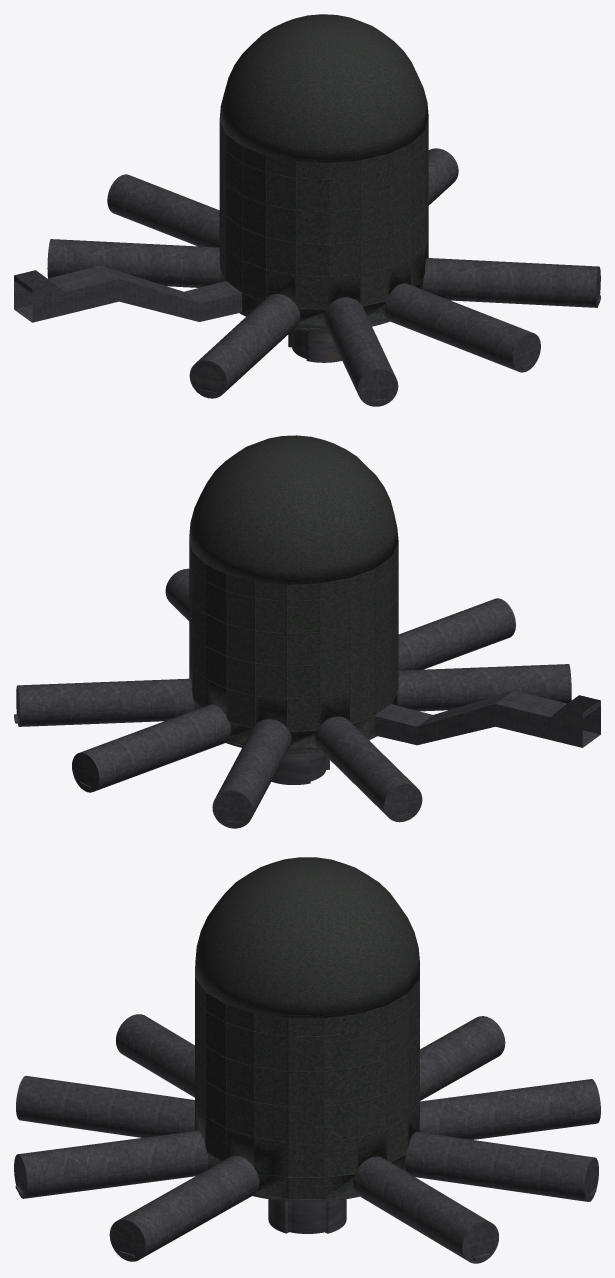
Rendered from FinalRoom.fbx.
3 views of the same model, one above another, from view 1: azimuth 30°, elevation 25°; view 2: azimuth 150°, elevation 25°; view 3: azimuth 270°, elevation 25° (orthographic). The views are drawn at different scales.
Parts seen in each view (by area): view 1: pCylinder45, pSphere1, HallwayToFinalRoom, pCylinder20, pCylinder23, pCylinder29, pCylinder27, pCylinder31, pCylinder25, pCylinder33, pCylinder48; view 2: pCylinder45, pSphere1, HallwayToFinalRoom, pCylinder33, pCylinder36, pCylinder27, pCylinder29, pCylinder25, pCylinder31, pCylinder48, pCylinder20; view 3: pCylinder45, pSphere1, pCylinder23, pCylinder36, pCylinder31, pCylinder25, pCylinder20, pCylinder33, pCylinder29, pCylinder27, pCylinder48, pCylinder47 (+1 smaller).
Part boxes in pixels (box(x1,y1,x2,y2)): pCylinder45: box(219, 118, 428, 328); pSphere1: box(219, 14, 428, 162); HallwayToFinalRoom: box(14, 265, 241, 322); pCylinder20: box(422, 258, 600, 307); pCylinder23: box(384, 283, 540, 372); pCylinder29: box(47, 239, 220, 287); pCylinder27: box(189, 294, 300, 398); pCylinder31: box(107, 174, 219, 247); pCylinder25: box(323, 297, 398, 406); pCylinder33: box(428, 148, 458, 205); pCylinder48: box(288, 331, 341, 362); pCylinder45: box(189, 539, 398, 751); pSphere1: box(189, 435, 398, 584); HallwayToFinalRoom: box(374, 690, 600, 747); pCylinder33: box(16, 678, 194, 726); pCylinder36: box(72, 704, 230, 792); pCylinder27: box(397, 664, 571, 711); pCylinder29: box(315, 716, 422, 822); pCylinder25: box(398, 598, 515, 670); pCylinder31: box(212, 719, 291, 828); pCylinder48: box(271, 753, 329, 784); pCylinder20: box(165, 568, 189, 620); pCylinder45: box(195, 960, 419, 1198); pSphere1: box(195, 857, 419, 1018); pCylinder23: box(14, 1130, 208, 1198); pCylinder36: box(405, 1132, 598, 1201); pCylinder31: box(419, 1079, 600, 1139); pCylinder25: box(16, 1076, 194, 1137); pCylinder20: box(109, 1155, 259, 1261); pCylinder33: box(353, 1156, 498, 1263); pCylinder29: box(420, 1016, 505, 1100); pCylinder27: box(116, 1014, 194, 1097); pCylinder48: box(268, 1199, 346, 1233); pCylinder47: box(288, 1201, 326, 1233).
Size of the model in its own units: 46483 by 28488 by 43054.
Materials: 4 (3 with a texture image).
